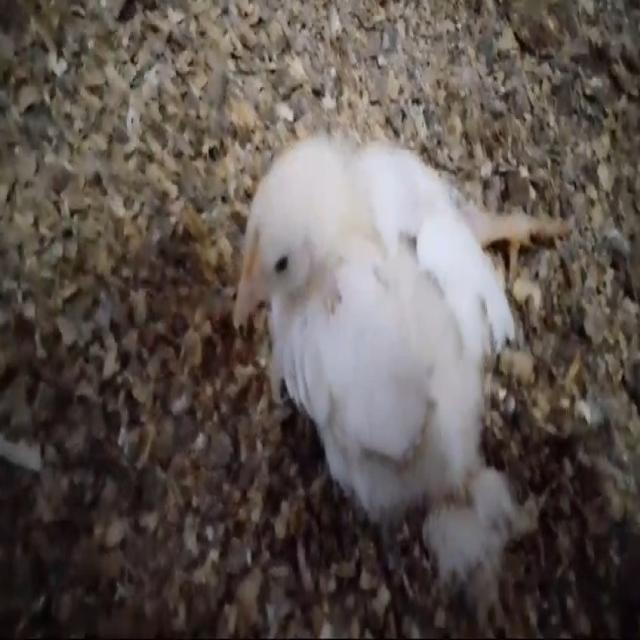abnormal chicken: (204, 52, 582, 576)
